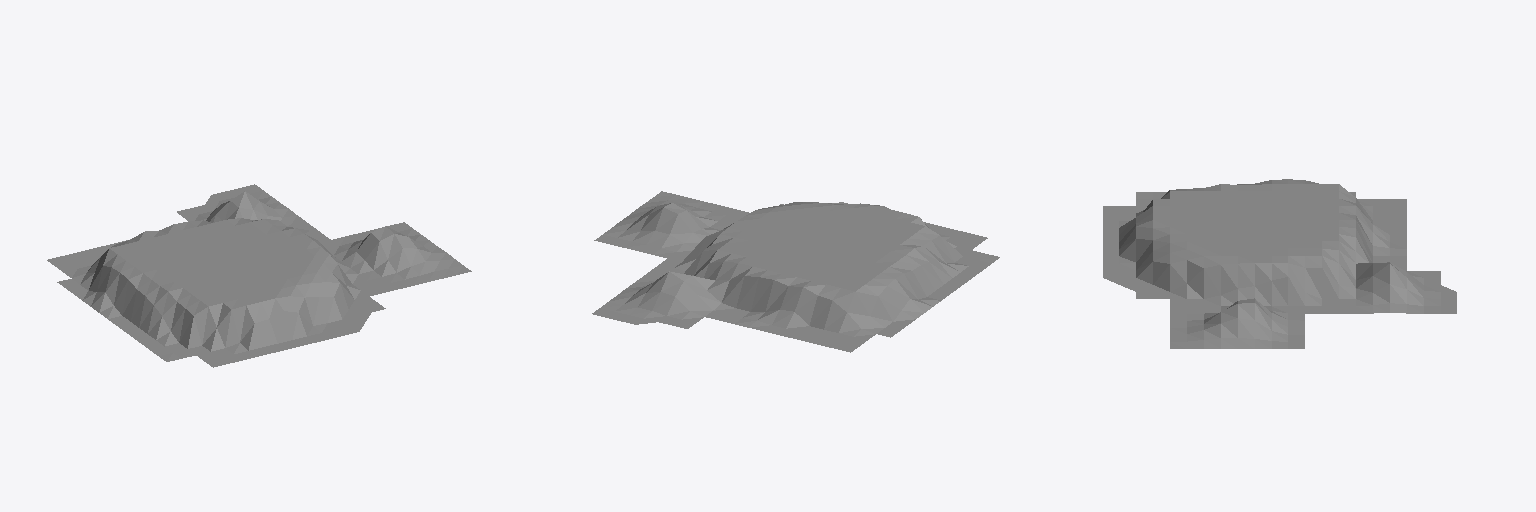
The model's file is Anmaodao_TD.obj.
The picture shows the model from 3 angles: view 1: azimuth 30°, elevation 25°; view 2: azimuth 150°, elevation 25°; view 3: azimuth 270°, elevation 25°; orthographic projection.
Parts seen in each view (by area): view 1: default; view 2: default; view 3: default.
Part boxes in pixels (bbox=[...]): default: bbox=[47, 184, 471, 367]; default: bbox=[592, 191, 999, 352]; default: bbox=[1103, 179, 1456, 348].
Bounding box in the file's own units: 22.96 × 2 × 21.92.